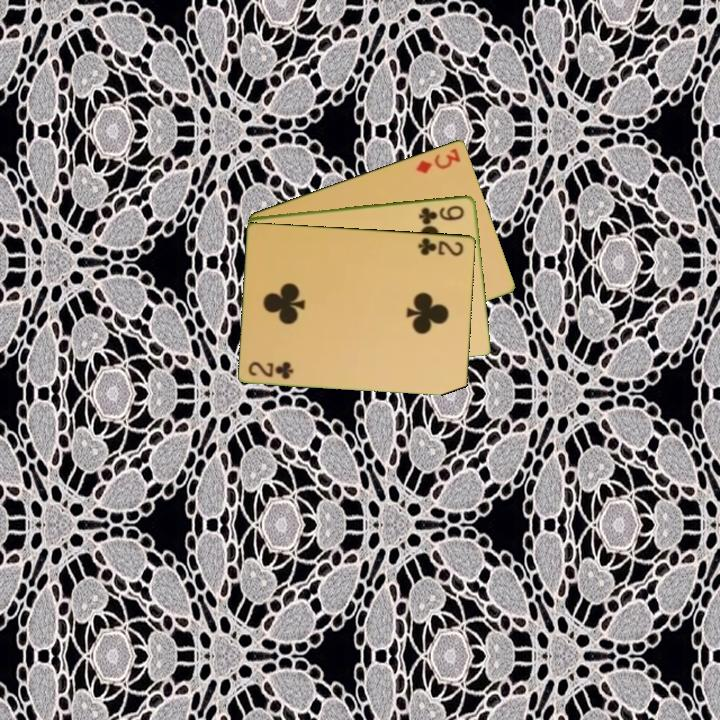2c: (415, 234, 466, 259), (245, 358, 296, 382)
3d: (412, 144, 463, 176)
9c: (415, 202, 467, 225)
